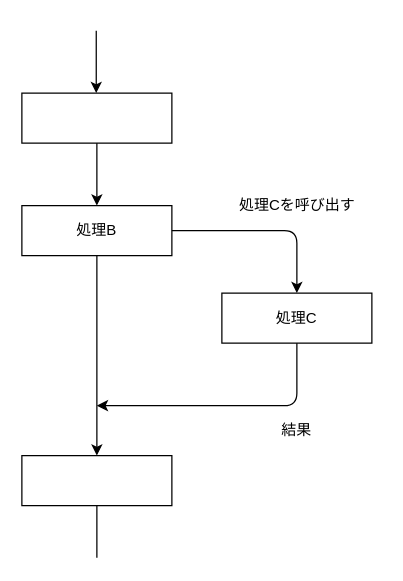
Image size: 403x581. Some labels were removed from this diagram. The shapes that lost their labels are listed below. From the top down, each one's centre as x and y in pixels, then its label:
At (96,117): "処理A".
At (96,480): "処理D".
